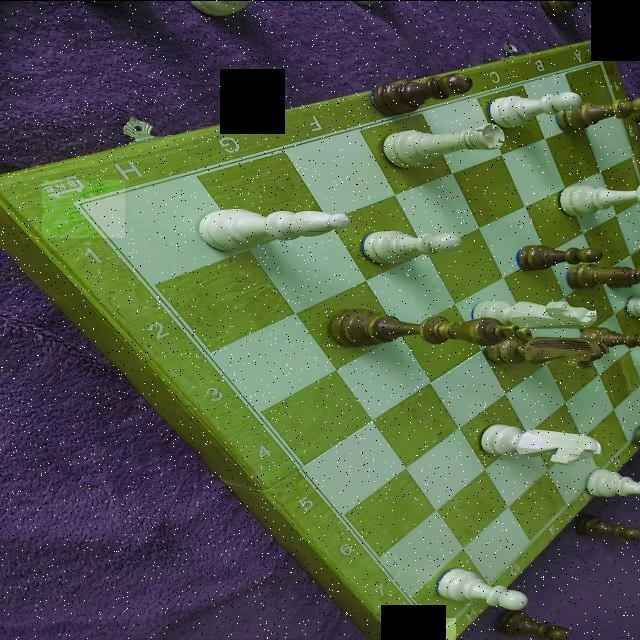chess-table-corners: (42, 179, 125, 237), (427, 617, 456, 639), (585, 53, 614, 74)
